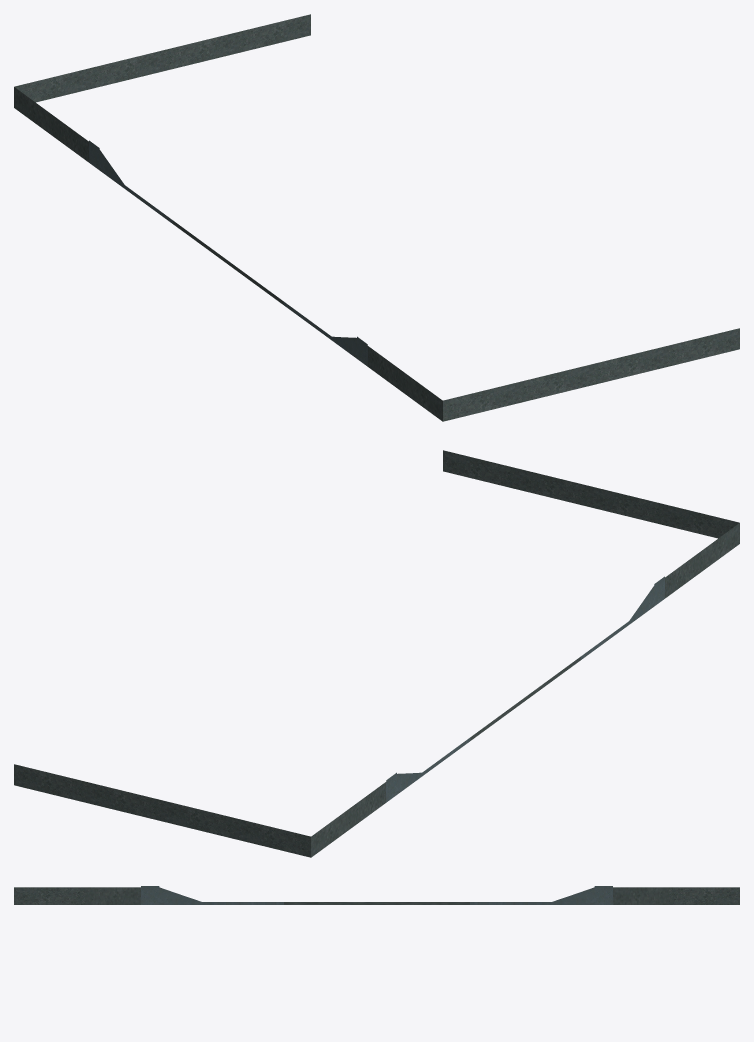
3 renders of one model, top to bottom at view 1: azimuth 30°, elevation 25°; view 2: azimuth 150°, elevation 25°; view 3: azimuth 270°, elevation 25°, orthographic. The views are drawn at different scales.
Parts seen in each view (by area): view 1: Joint_0_Object_0, Joint_0_Object_1, Joint_0_Object_3; view 2: Joint_0_Object_0, Joint_0_Object_3, Joint_0_Object_1; view 3: Joint_0_Object_0, Joint_0_Object_1, Joint_0_Object_3, Joint_0_Object_2.
Boxes of the visible parts, left/top/right/bottom form: Joint_0_Object_0: left=14, top=14, right=739, bottom=421; Joint_0_Object_1: left=88, top=140, right=173, bottom=223; Joint_0_Object_3: left=283, top=301, right=367, bottom=366; Joint_0_Object_0: left=14, top=450, right=739, bottom=857; Joint_0_Object_3: left=580, top=576, right=665, bottom=659; Joint_0_Object_1: left=386, top=737, right=470, bottom=802; Joint_0_Object_0: left=14, top=887, right=739, bottom=904; Joint_0_Object_1: left=470, top=886, right=613, bottom=904; Joint_0_Object_3: left=140, top=886, right=283, bottom=904; Joint_0_Object_2: left=284, top=902, right=469, bottom=904.
Size of the model in its own units: 4000 by 289 by 10000.
Materials: 2 (2 with a texture image).
